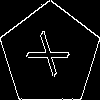X: (25, 30, 79, 85)
